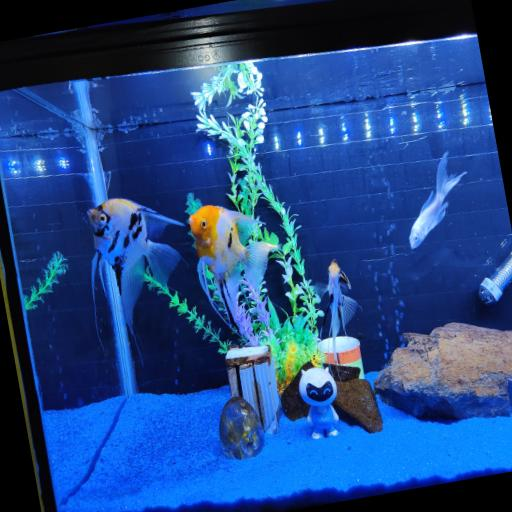Fish: (88, 199, 184, 332), (189, 206, 278, 327), (410, 152, 466, 248), (315, 260, 357, 364)
